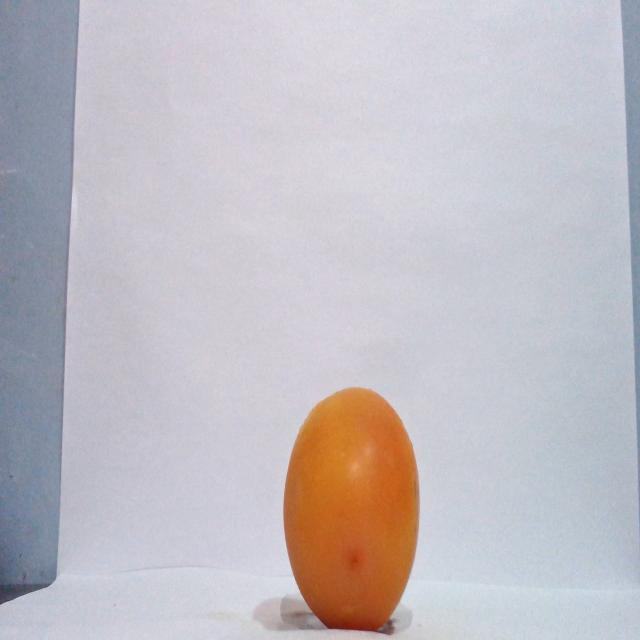Red: (281, 385, 421, 631)
